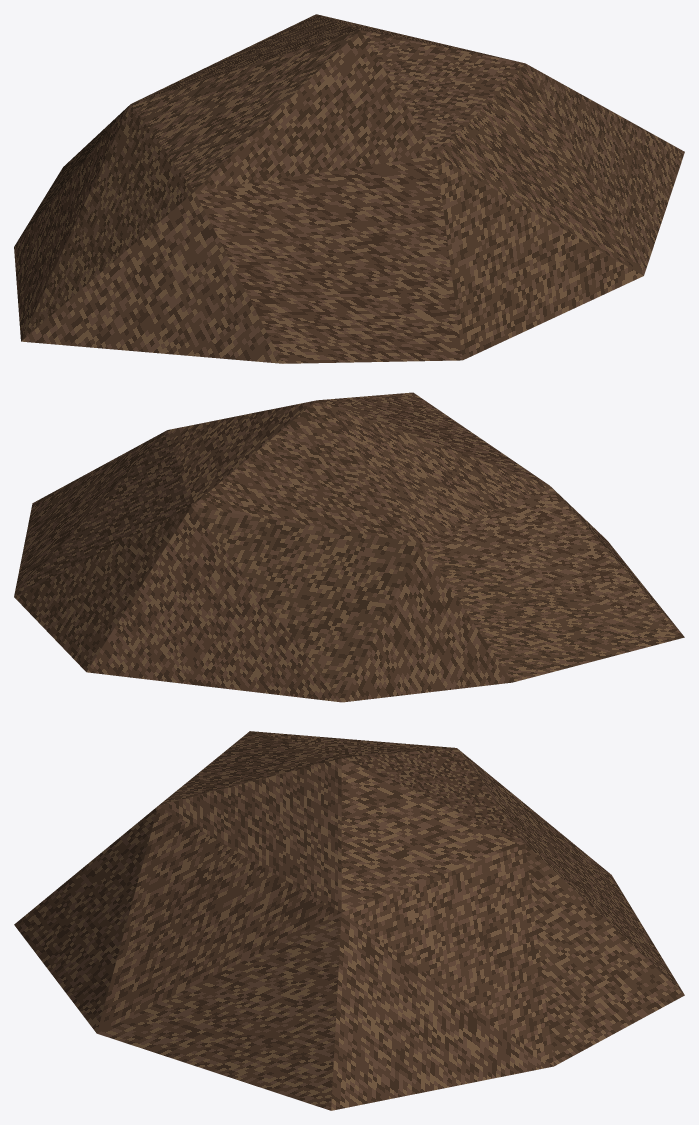
Rendered from material_soil.glb.
3 renders of one model, top to bottom at view 1: azimuth 30°, elevation 25°; view 2: azimuth 150°, elevation 25°; view 3: azimuth 270°, elevation 25°, orthographic. The views are drawn at different scales.
Parts seen in each view (by area): view 1: block_heap; view 2: block_heap; view 3: block_heap.
Boxes of the visible parts, x1,y1,x2,y2 form: block_heap: [14, 14, 684, 363]; block_heap: [14, 392, 684, 702]; block_heap: [14, 731, 684, 1110].
Bounding box in the file's own units: 0.2962 × 0.08 × 0.2479.
Materials: 1 (1 with a texture image).
